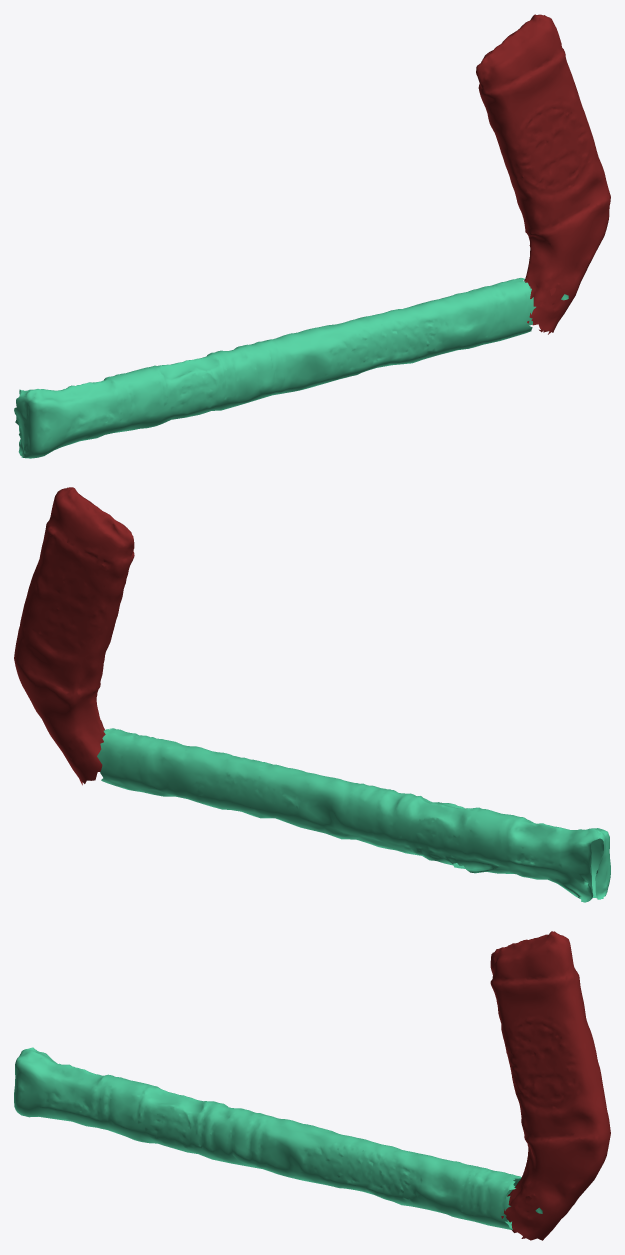
Rendered from object_deformed_2.obj.
3 renders of one model, top to bottom at view 1: azimuth 30°, elevation 25°; view 2: azimuth 150°, elevation 25°; view 3: azimuth 330°, elevation 25°, orthographic. The views are drawn at different scales.
Bounding box in the file's own units: 0.4833 × 0.2405 × 0.053.
